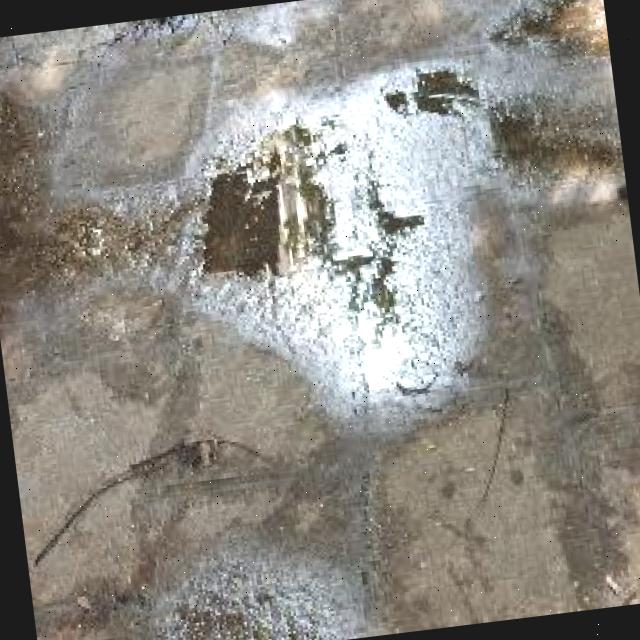stagnation: (194, 130, 360, 284)
